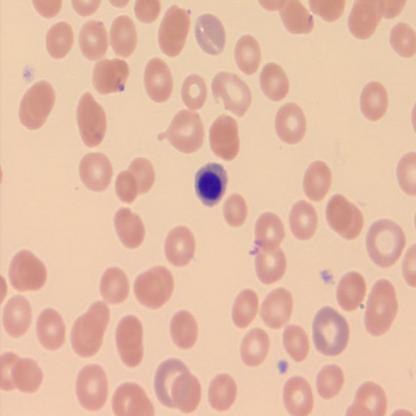NRC: (192, 161, 229, 209)
